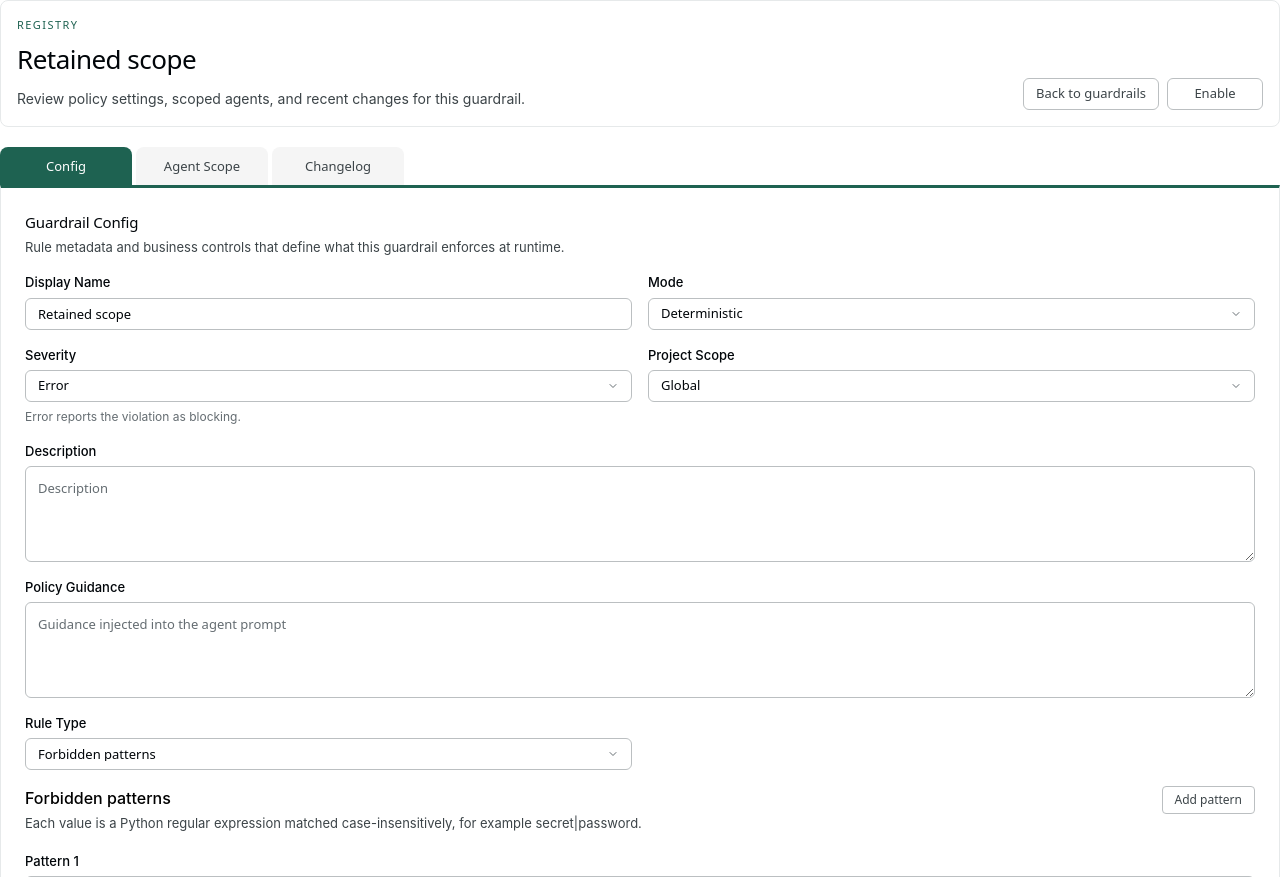
Test case: RegistryGuardrailsDetailPage › preserves retained scope while eligible agents are error
Click the tab "Agent Scope" at (202, 166), box [136,147,268,185]
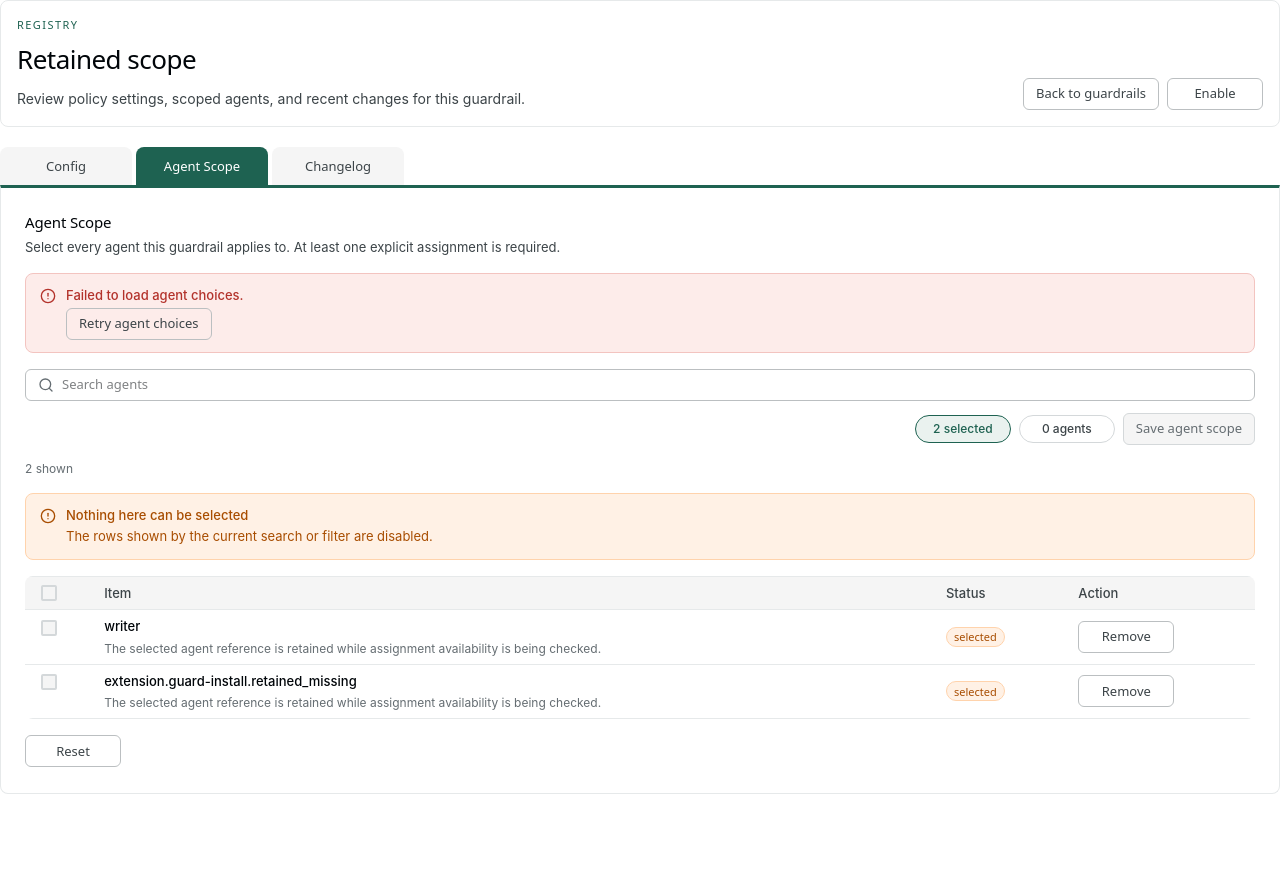
Expected: the text "extension.guard-install.retained_missing" is shown, [104,673,357,689]
Expected: the button "Save agent scope" is disabled, [1123,413,1255,445]
Expected: the text "Failed to load agent choices." is shown, [66,288,244,304]
